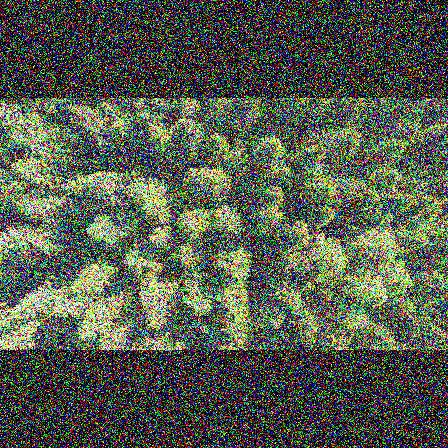Sick: (180, 314, 209, 340), (305, 157, 333, 178), (282, 252, 304, 275), (376, 108, 400, 127), (405, 116, 427, 136), (318, 128, 340, 148), (299, 258, 320, 277)
